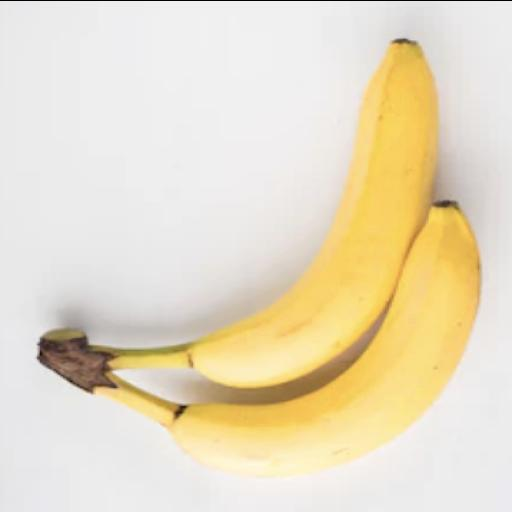banana: (39, 201, 480, 475), (112, 39, 437, 385)
